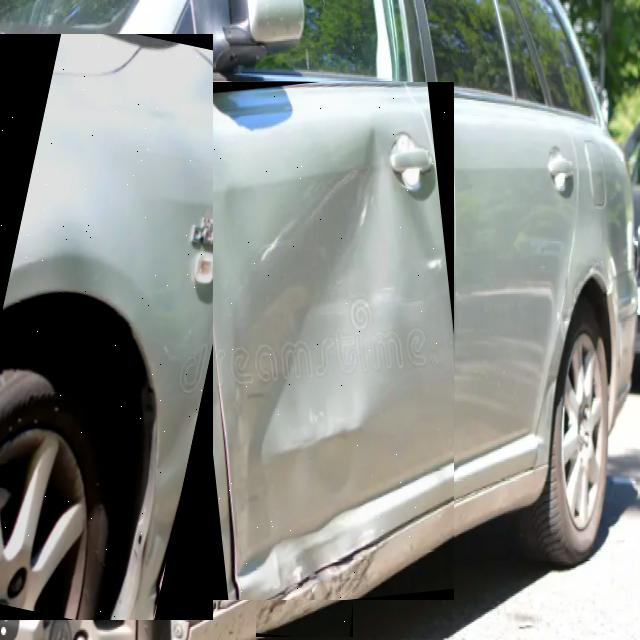Dent: (202, 87, 453, 599), (4, 45, 212, 619), (256, 558, 352, 632)
